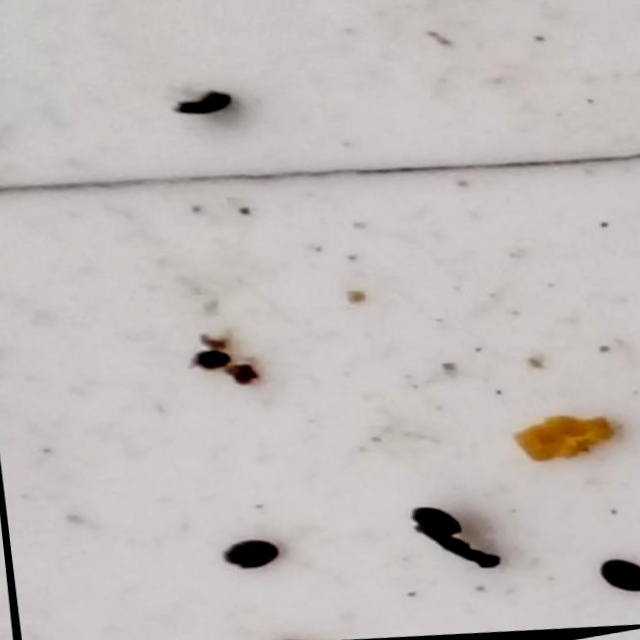varroa: (220, 540, 282, 580), (173, 93, 235, 128), (404, 506, 459, 545)
